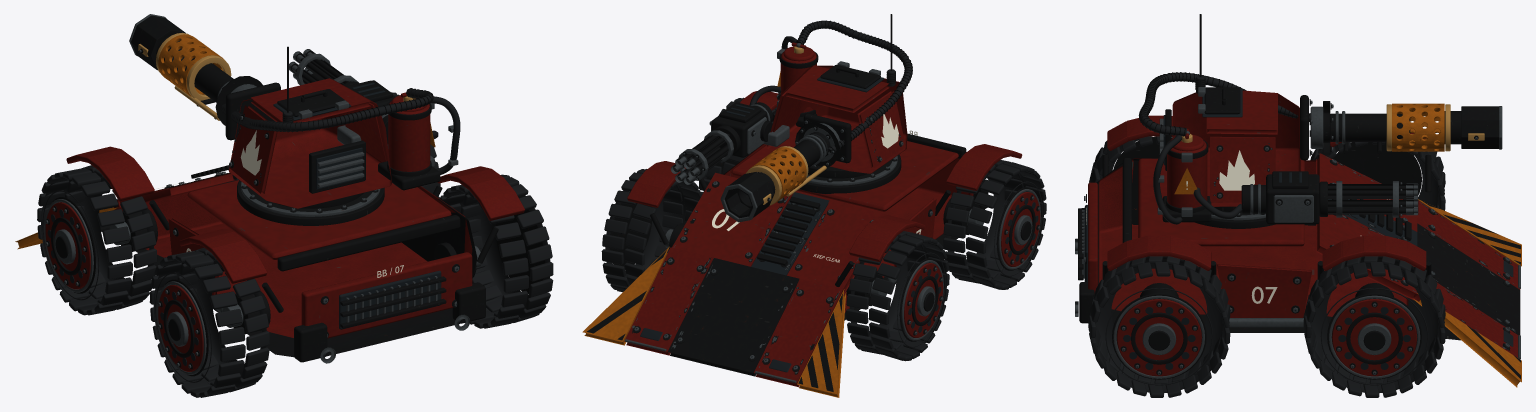
File: flamebot_07.glb
3 views of the same model, side by side, from view 1: azimuth 30°, elevation 25°; view 2: azimuth 150°, elevation 25°; view 3: azimuth 270°, elevation 25° (orthographic). The views are drawn at different scales.
Parts seen in each view (by area): view 1: Chassis_Mesh, TurretYaw_Mesh, WheelLeftRear_Mesh, WheelLeftFront_Mesh, WheelRightRear_Mesh, MinigunSpin_Mesh; view 2: Chassis_Mesh, TurretYaw_Mesh, WheelLeftFront_Mesh, WheelLeftRear_Mesh, WheelRightFront_Mesh, MinigunSpin_Mesh, WheelRightRear_Mesh; view 3: Chassis_Mesh, TurretYaw_Mesh, WheelRightFront_Mesh, WheelRightRear_Mesh, WheelLeftFront_Mesh, MinigunSpin_Mesh, WheelLeftRear_Mesh.
Boxes of the visible parts, x1,y1,x2,y2 form: Chassis_Mesh: [15, 146, 524, 363]; TurretYaw_Mesh: [129, 14, 460, 216]; WheelLeftRear_Mesh: [149, 247, 269, 397]; WheelLeftFront_Mesh: [37, 165, 157, 315]; WheelRightRear_Mesh: [440, 174, 553, 328]; MinigunSpin_Mesh: [289, 49, 359, 86]; Chassis_Mesh: [582, 91, 1022, 397]; TurretYaw_Mesh: [709, 14, 912, 222]; WheelLeftFront_Mesh: [846, 231, 949, 361]; WheelLeftRear_Mesh: [943, 160, 1046, 289]; WheelRightFront_Mesh: [601, 169, 701, 292]; MinigunSpin_Mesh: [670, 125, 740, 184]; WheelRightRear_Mesh: [699, 97, 776, 194]; Chassis_Mesh: [1075, 115, 1521, 387]; TurretYaw_Mesh: [1138, 14, 1502, 224]; WheelRightFront_Mesh: [1303, 256, 1445, 397]; WheelRightRear_Mesh: [1088, 256, 1230, 397]; WheelLeftFront_Mesh: [1310, 142, 1445, 210]; MinigunSpin_Mesh: [1319, 181, 1418, 217]; WheelLeftRear_Mesh: [1089, 136, 1172, 182].
Bounding box in the file's own units: 2.34 × 1.88 × 2.66.
8 materials, 4 textured.
